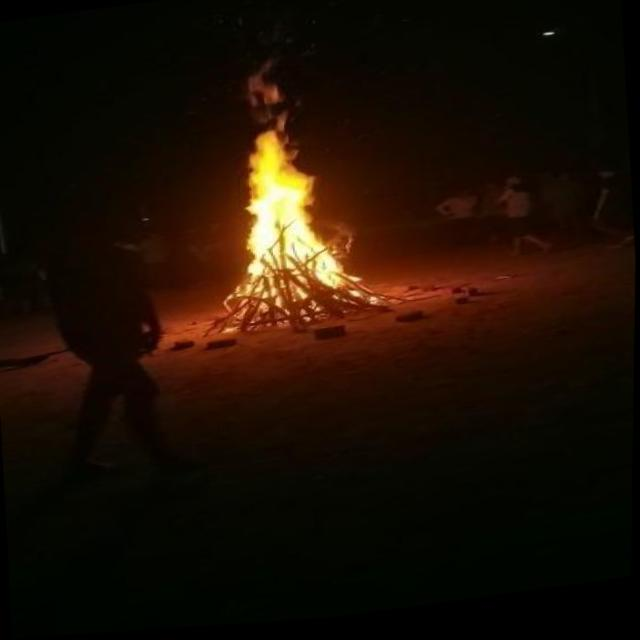fire: (198, 50, 382, 325)
